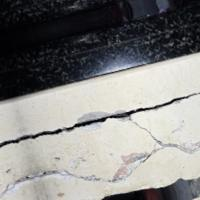crack: (0, 109, 199, 189)
